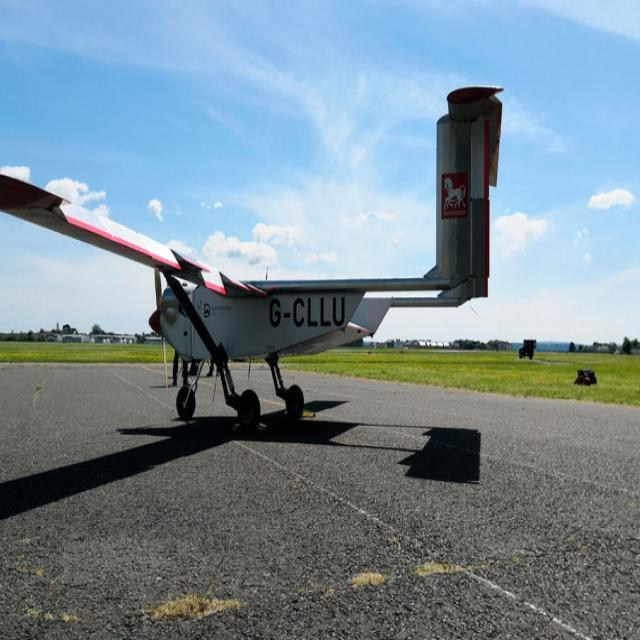iha: (0, 82, 525, 430)
